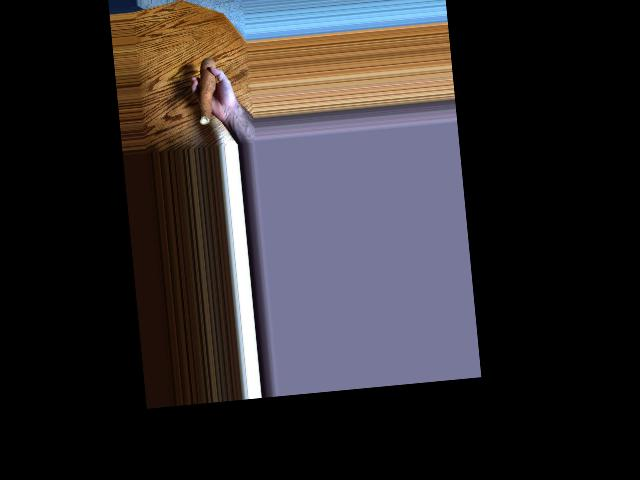sweet_potato: (195, 58, 221, 123)
